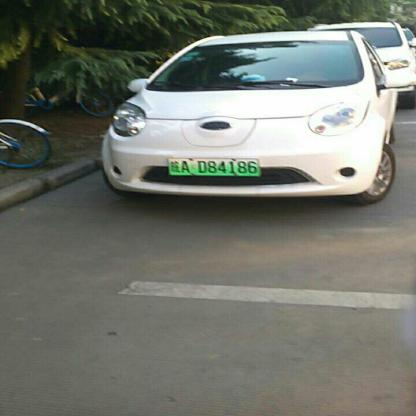lp: (168, 158, 260, 174)
